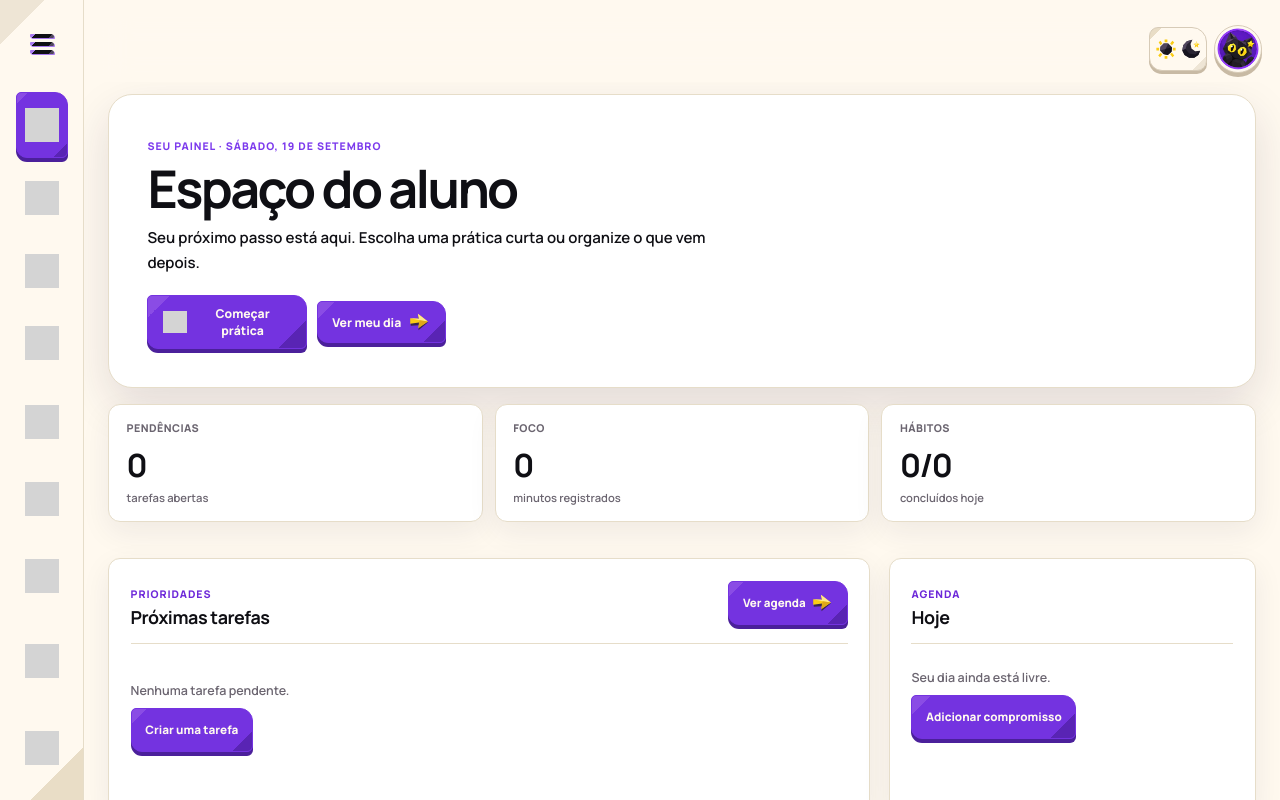
Scenario: App › cria uma tarefa, mostra no Espaço do aluno e permite concluí-la
This screenshot has width=1280, height=800.
Click the button named "Agenda" at (42, 198), box [16,165,68,231]
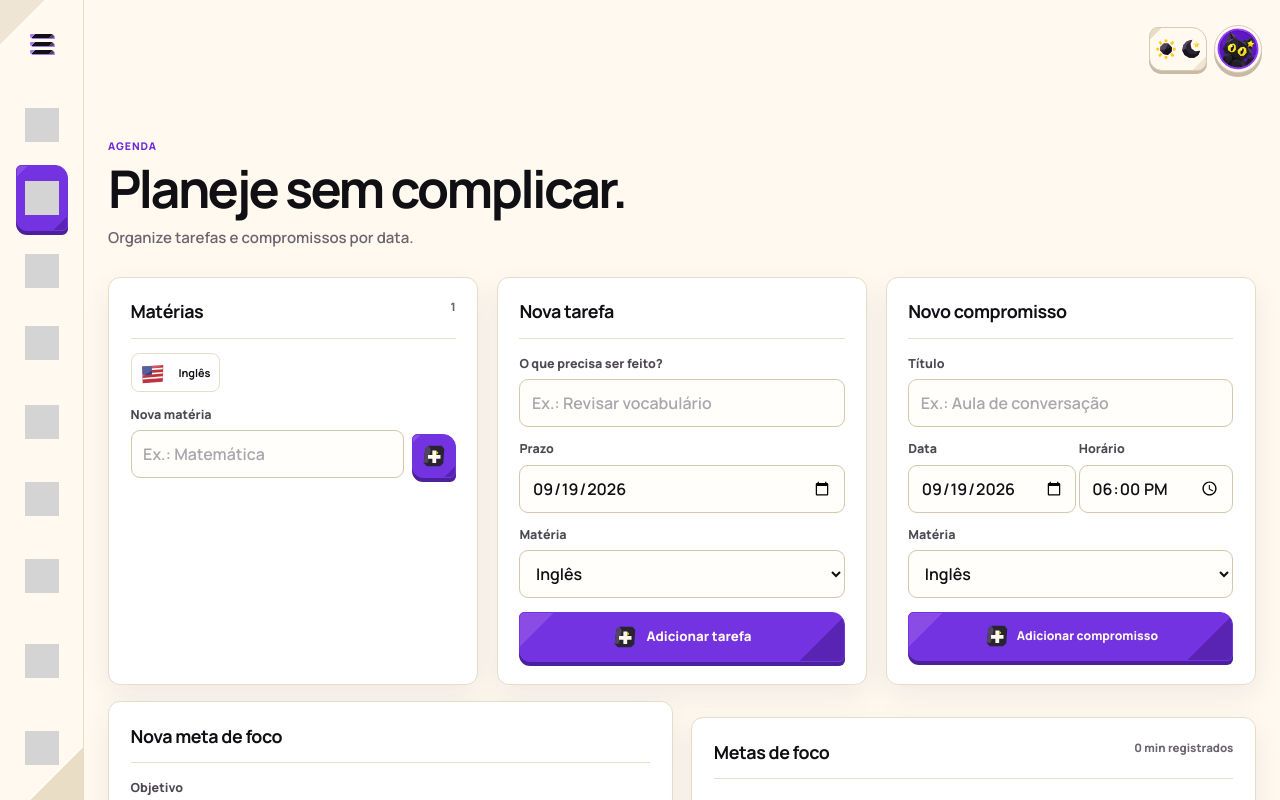
Now the field labelled "O que precisa ser feito?" is shown
Type "Revisar phrasal verbs" into the field labelled "O que precisa ser feito?" at (682, 403), box [519,379,845,427]
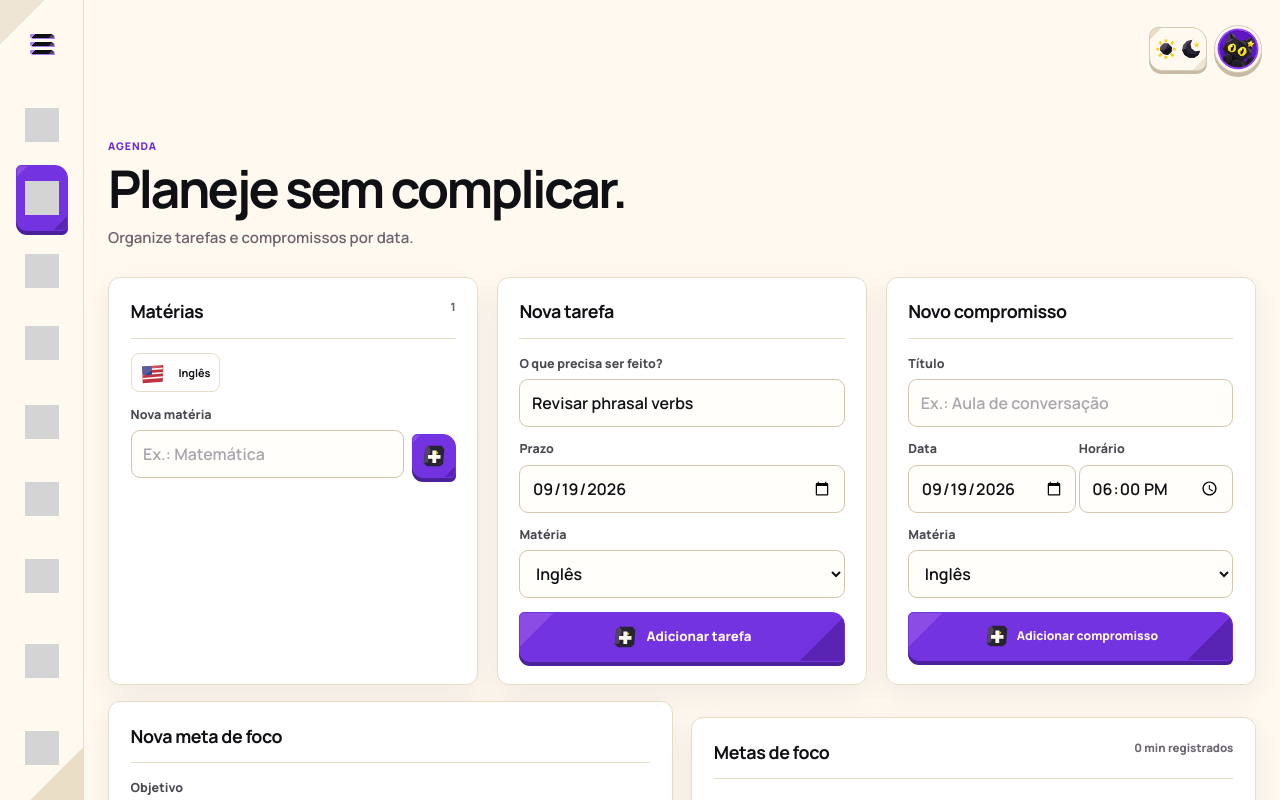
Click the button "Adicionar tarefa" at (682, 637), box [519,612,845,662]
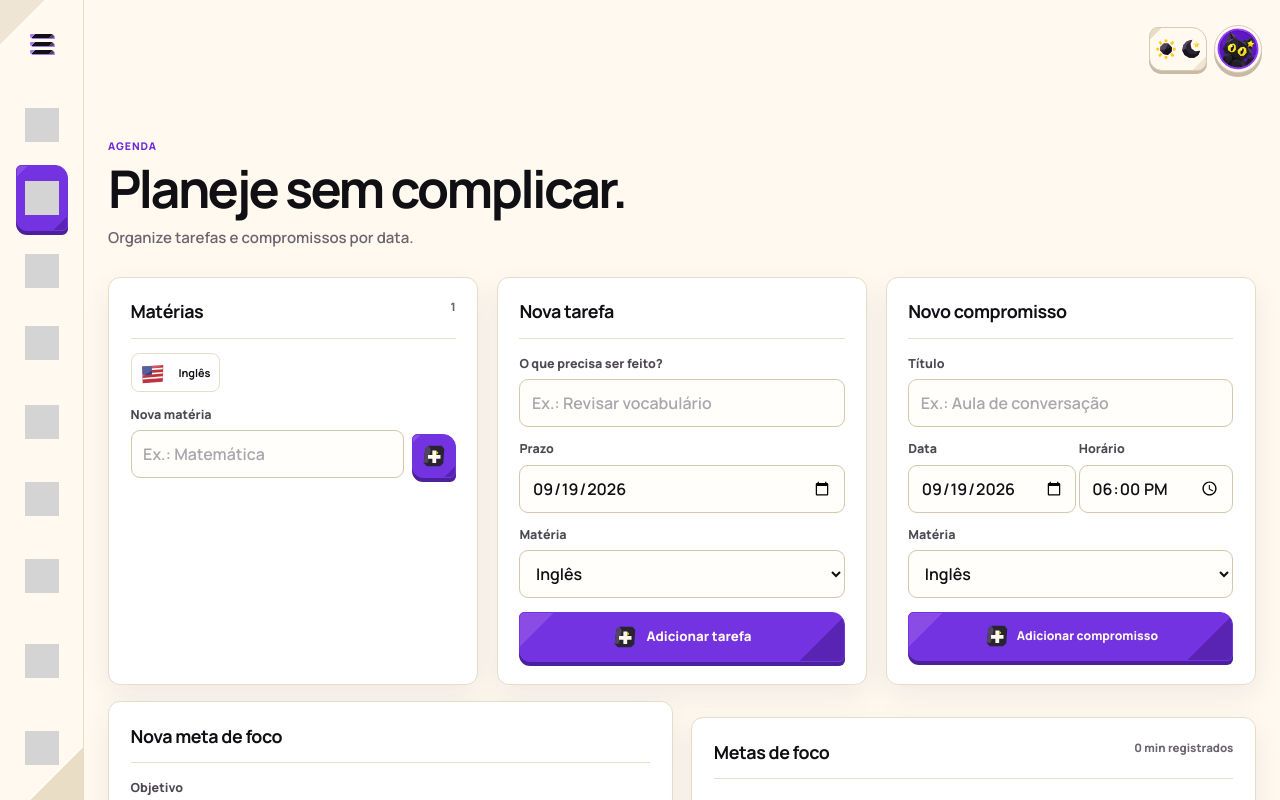
Click the button named "Espaço do aluno" at (42, 125), box [16,92,68,158]
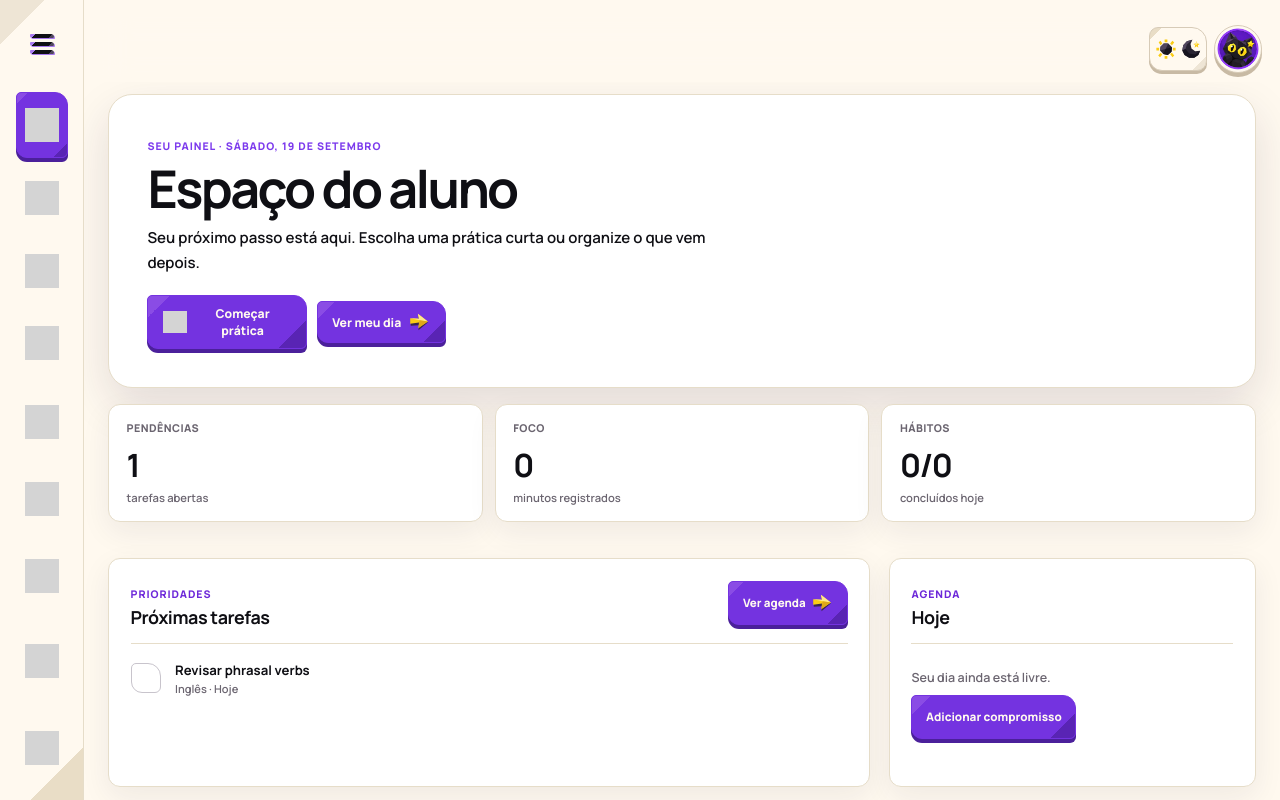
Now the text "Revisar phrasal verbs" is shown, box [175,660,310,678]
Click the button named "concluir revisar phrasal verbs" at (146, 678), box [131,663,161,693]
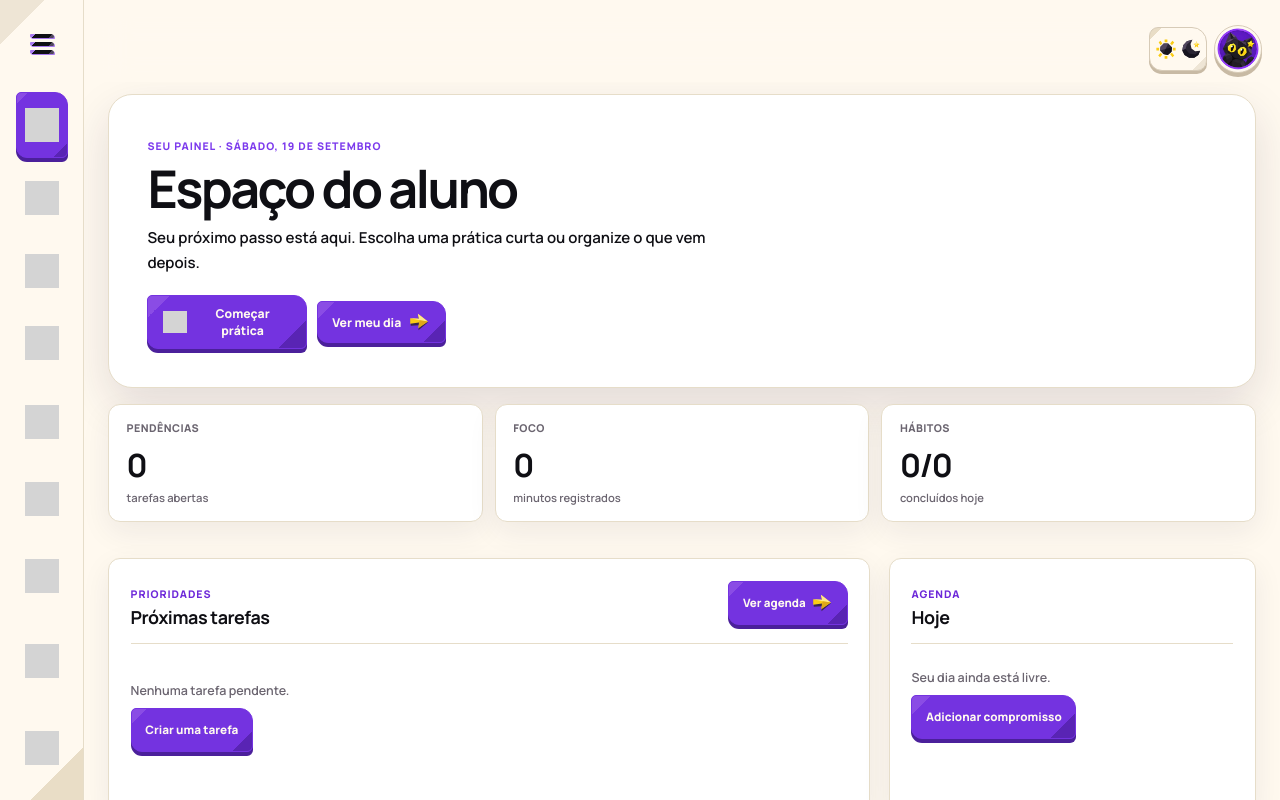
Now the text "Revisar phrasal verbs" is gone
